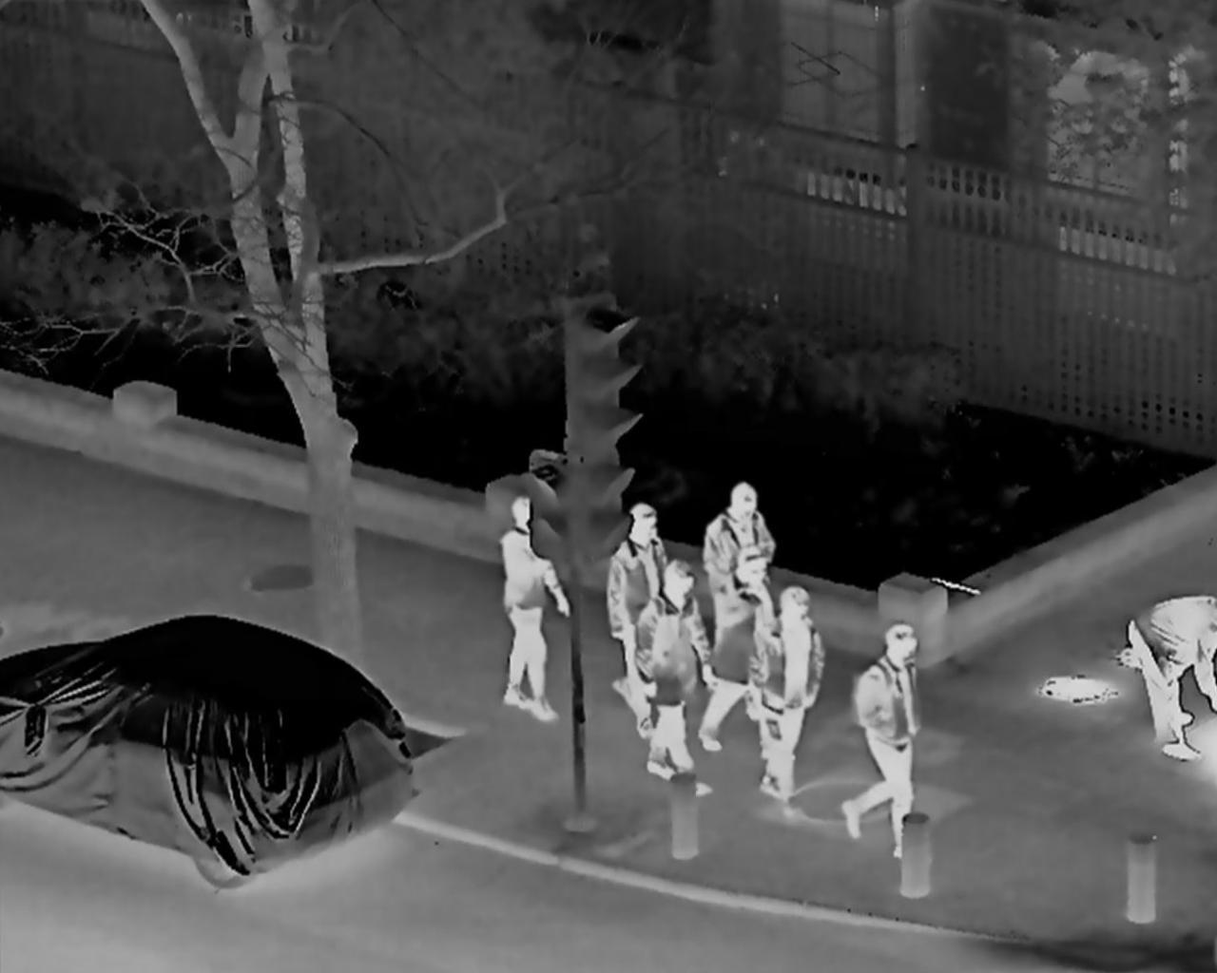person: (843, 624, 922, 856), (489, 497, 570, 721), (642, 562, 712, 797), (1120, 594, 1216, 763), (701, 477, 770, 711), (705, 552, 781, 764), (608, 506, 669, 736), (763, 590, 817, 821)
